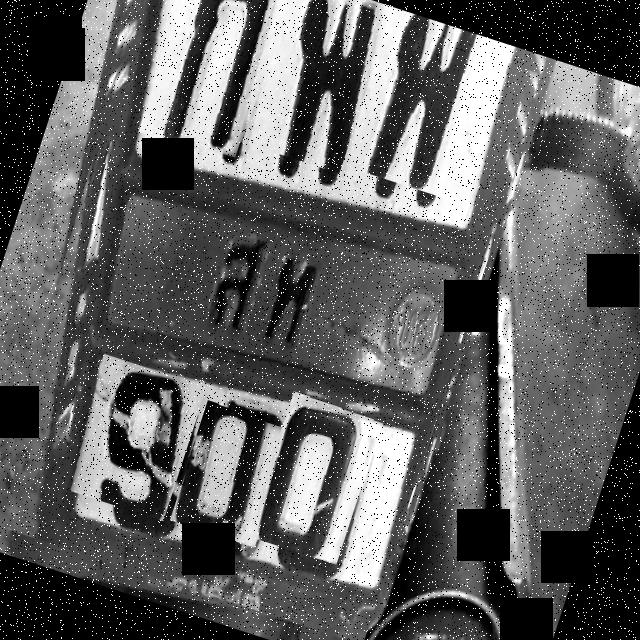letters: (358, 12, 507, 202), (138, 0, 298, 166), (250, 0, 393, 173), (61, 354, 207, 522), (246, 392, 384, 566), (169, 401, 293, 548)
license-plate: (44, 0, 533, 629)
province: (156, 208, 358, 370)
